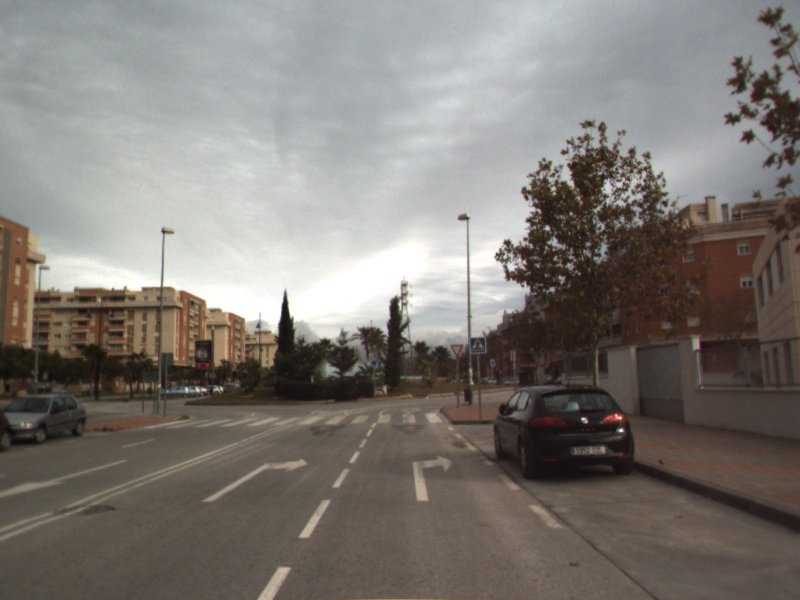RIGHT: (199, 456, 310, 504), (410, 452, 455, 503)
